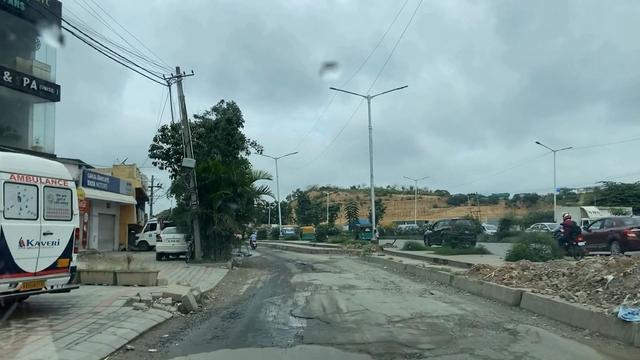RoadDamages: (339, 312, 535, 360), (238, 291, 318, 353)
